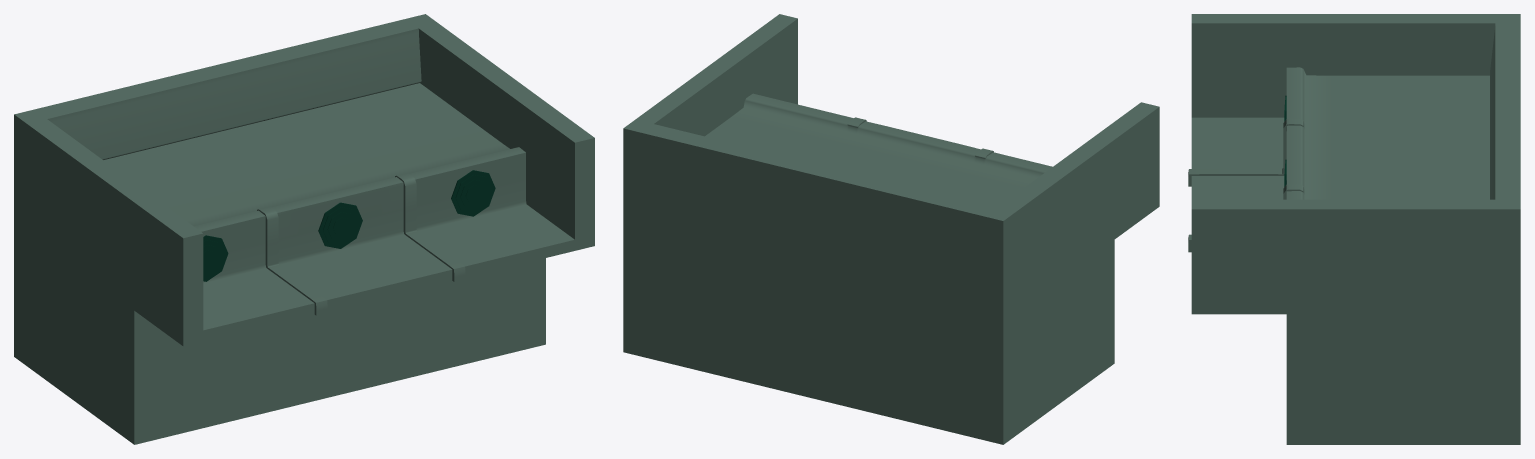
File: Envy_shootingStable.fbx
3 views of the same model, side by side, from view 1: azimuth 30°, elevation 25°; view 2: azimuth 150°, elevation 25°; view 3: azimuth 270°, elevation 25° (orthographic). The views are drawn at different scales.
Parts seen in each view (by area): view 1: ShootShelf, Target, Target1, Target2; view 2: ShootShelf; view 3: ShootShelf.
Boxes of the visible parts, x1,y1,x2,y2 form: ShootShelf: (14, 14, 594, 444); Target: (318, 202, 362, 248); Target1: (451, 170, 495, 216); Target2: (203, 235, 228, 281); ShootShelf: (623, 14, 1159, 444); ShootShelf: (1188, 14, 1520, 444).
Size of the model in its own units: 7.06 by 3.97 by 5.08.
